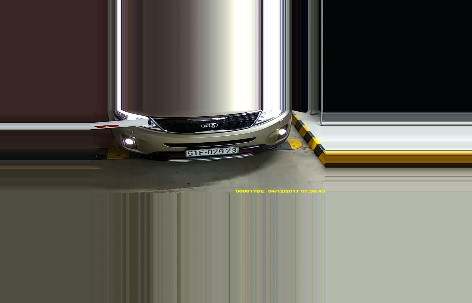plate: (184, 145, 240, 157)
